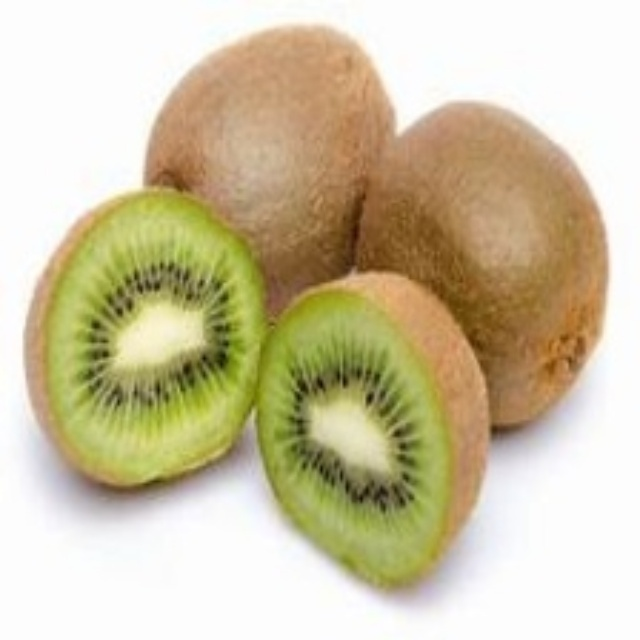kiwi: (364, 99, 610, 431), (251, 276, 492, 599), (23, 185, 274, 481), (144, 36, 391, 314)
